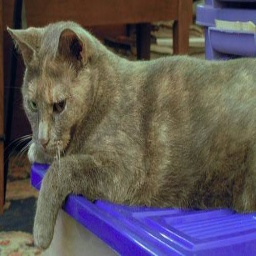cat: (7, 16, 256, 244)
